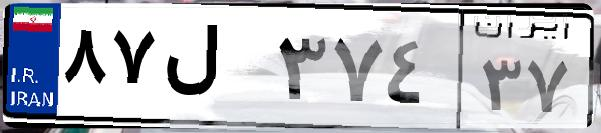3: (270, 28, 330, 110), (475, 38, 525, 113)
4: (385, 28, 445, 110)
7: (330, 28, 385, 110), (525, 38, 570, 115), (110, 28, 158, 98)
8: (57, 26, 110, 100)
ل: (158, 20, 270, 120)
